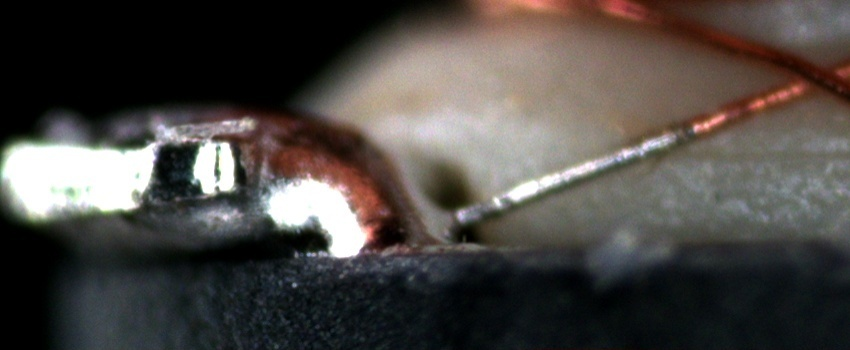CL: (768, 47, 846, 101)
DL: (666, 124, 850, 182)
TS: (456, 125, 692, 227)
